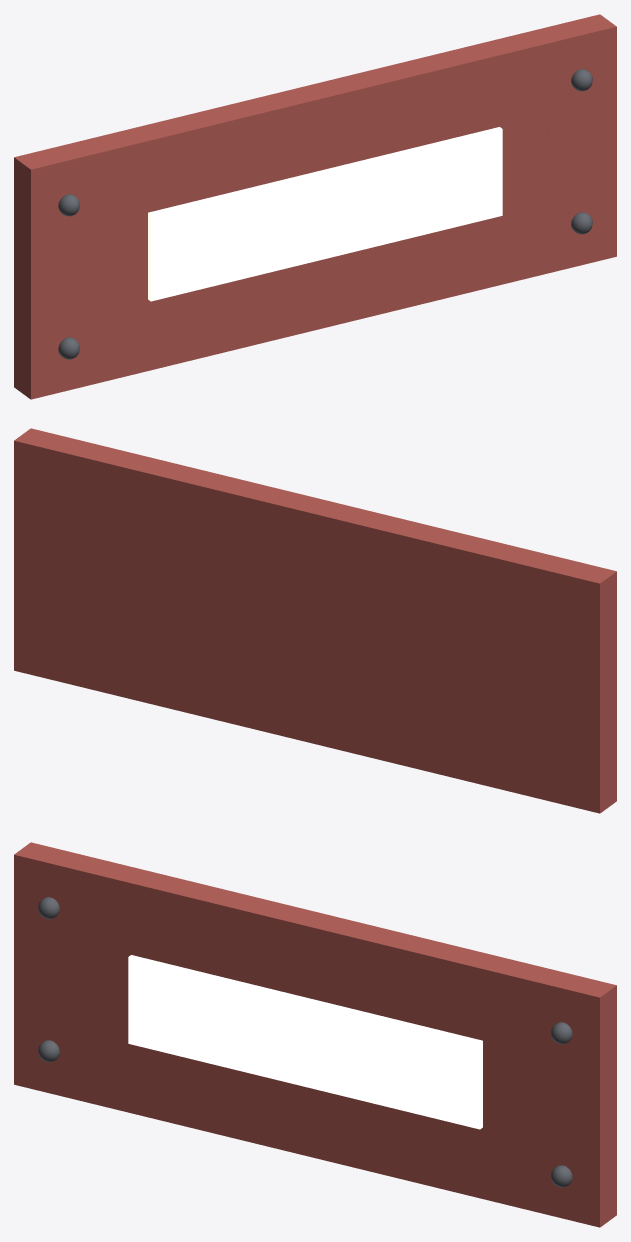
The model's file is prop_kanban_wall_a.glb.
The picture shows the model from 3 angles, top to bottom: view 1: azimuth 30°, elevation 25°; view 2: azimuth 150°, elevation 25°; view 3: azimuth 330°, elevation 25°; orthographic projection.
Visible parts, largest first — view 1: kanban_wall_a; view 2: kanban_wall_a; view 3: kanban_wall_a.
Boxes of the visible parts, box(x1,y1,x2,y2) form: kanban_wall_a: box(14, 14, 616, 399); kanban_wall_a: box(14, 428, 616, 813); kanban_wall_a: box(14, 842, 616, 1227).
Bounding box in the file's own units: 2.4 × 0.9 × 0.17.
